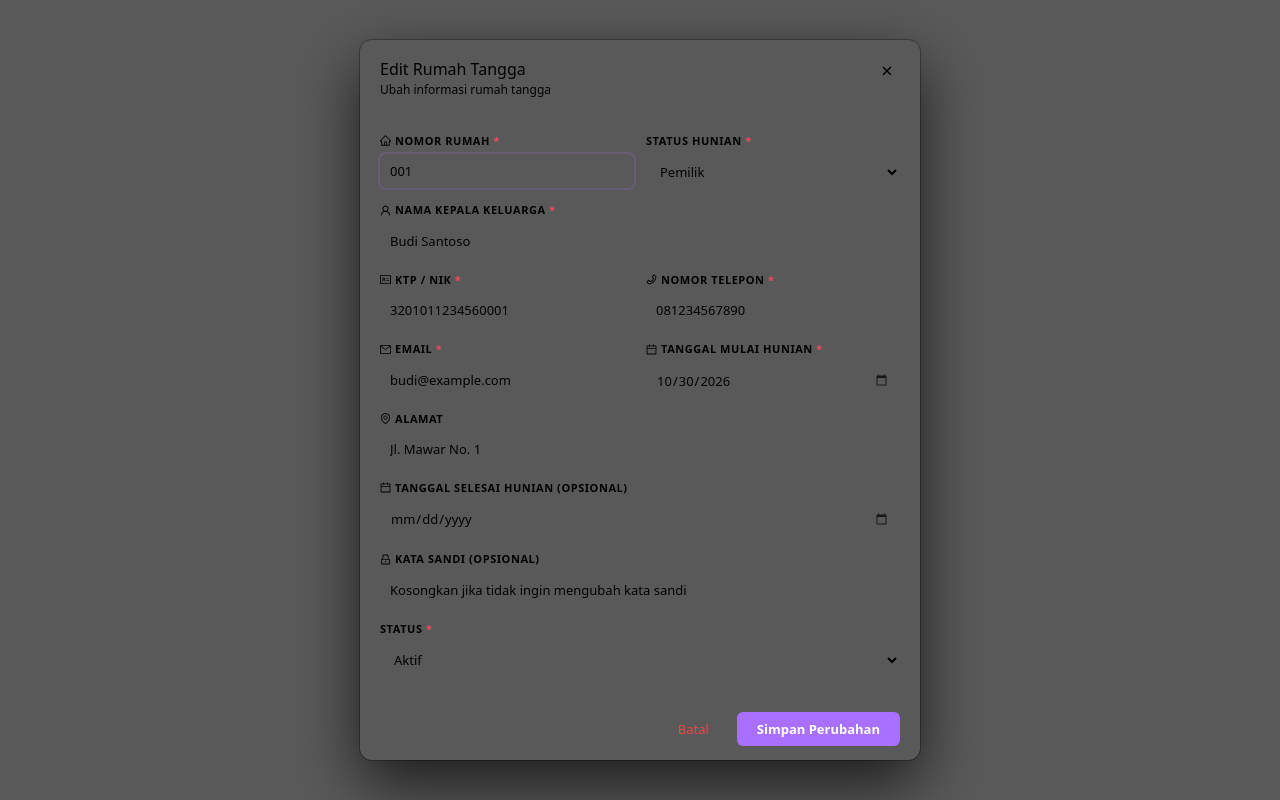
Test case: W4.3 — HouseholdEdit form rendering › shows loading state during save
Expected: the field labelled "Nomor Rumah *" is shown, [380,154,634,188]
Click the button "Simpan Perubahan" at (818, 729), box [737,712,900,746]
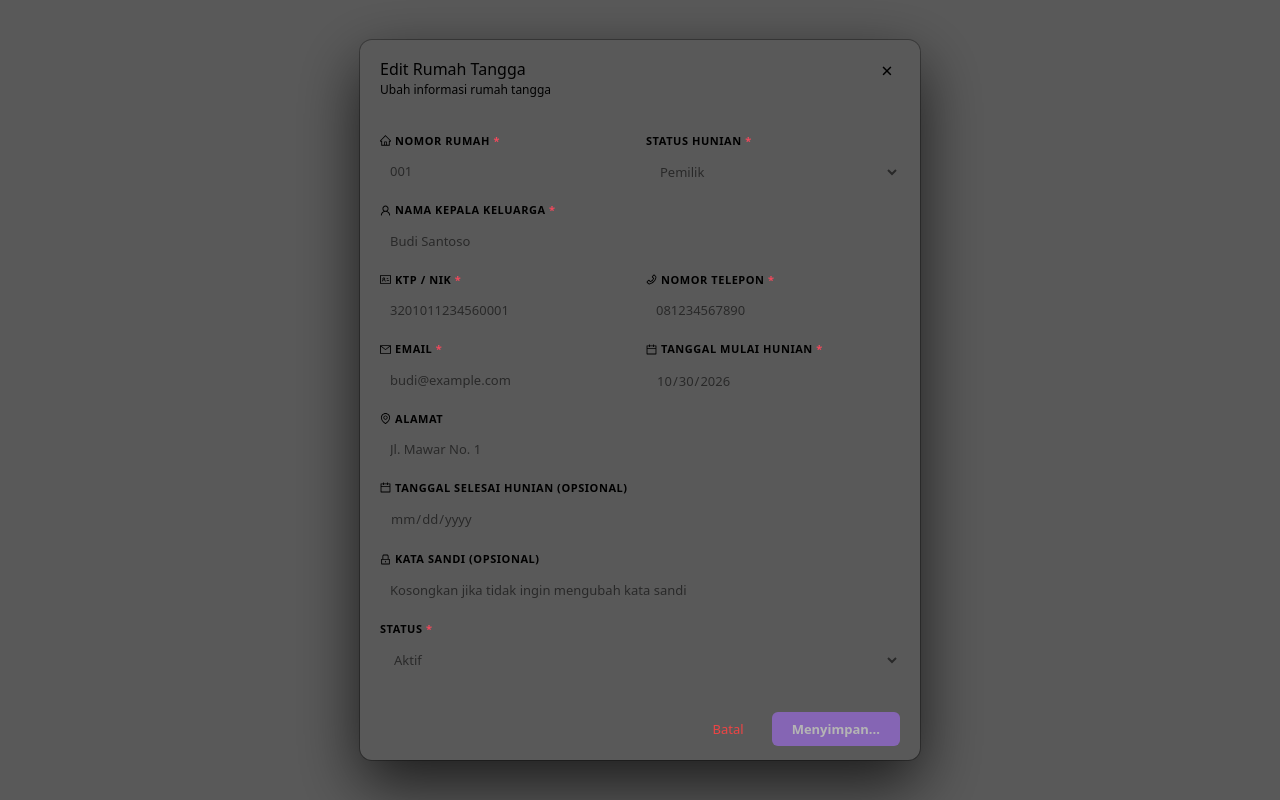
Expected: the button "Menyimpan..." is shown, [772,712,900,746]
